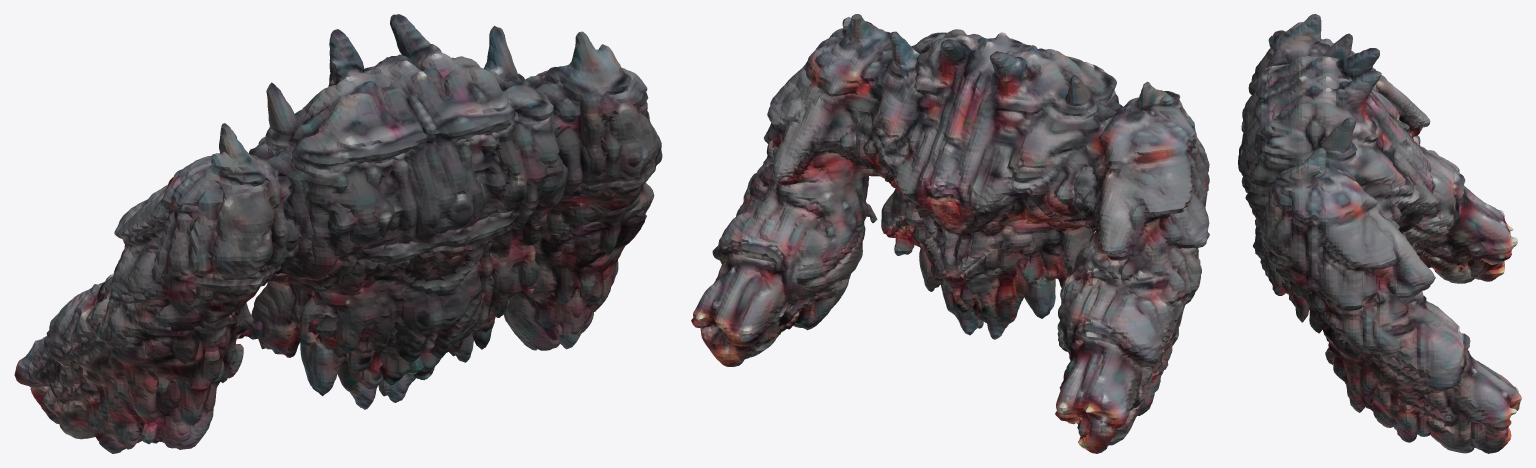
The model's file is leviathan-assault-bot.glb.
3 renders of one model, left to right at view 1: azimuth 30°, elevation 25°; view 2: azimuth 150°, elevation 25°; view 3: azimuth 270°, elevation 25°, orthographic. The views are drawn at different scales.
Parts seen in each view (by area): view 1: world; view 2: world; view 3: world.
Boxes of the visible parts, left/top/right/bottom form: world: left=14, top=14, right=662, bottom=453; world: left=691, top=14, right=1209, bottom=453; world: left=1238, top=14, right=1521, bottom=453.
Bounding box in the file's own units: 0.99 × 0.686 × 0.5724.
